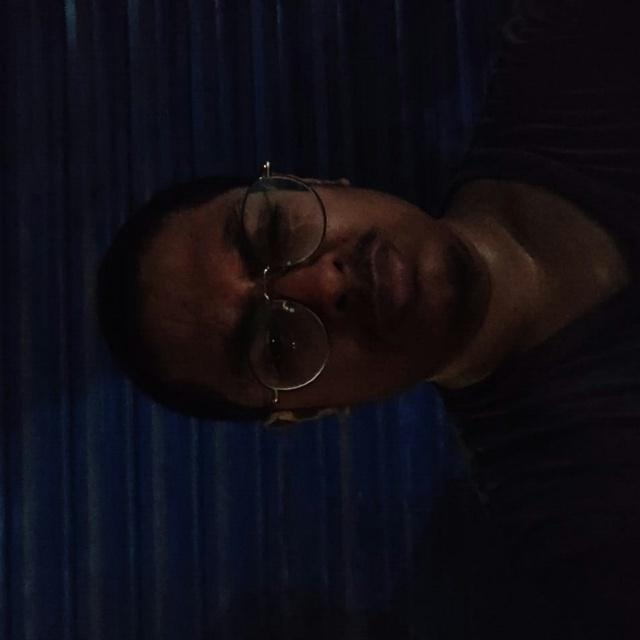Disgust: (77, 142, 506, 453)
